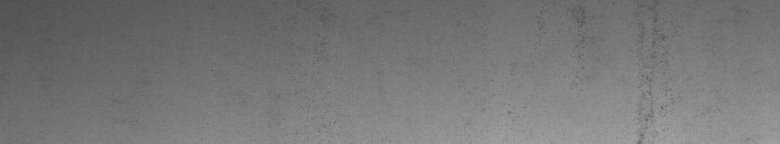ib: (568, 6, 672, 136)
